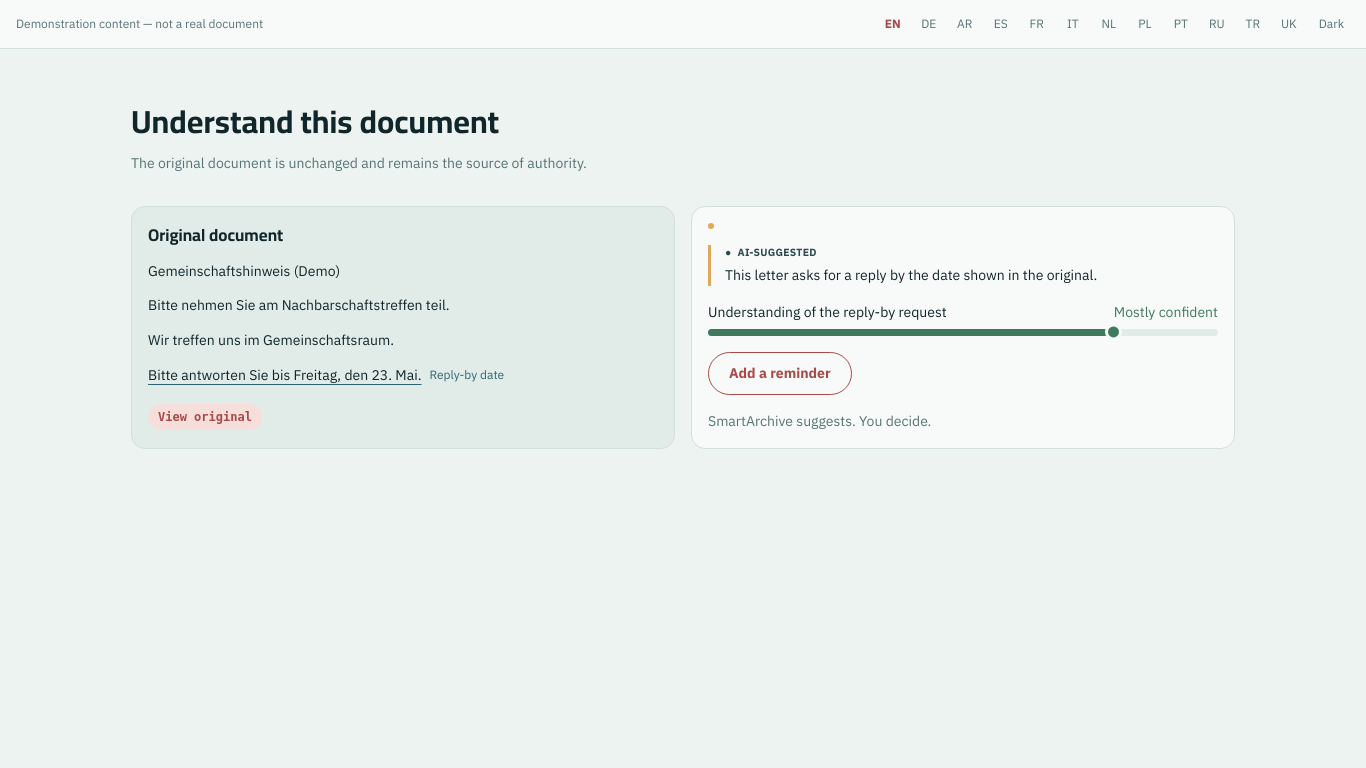
it: DocumentUnderstanding (HSA-08) › does not add a reminder until the human confirms
Click the button "Add a reminder". click: (780, 373)
box: [708,352,852,395]
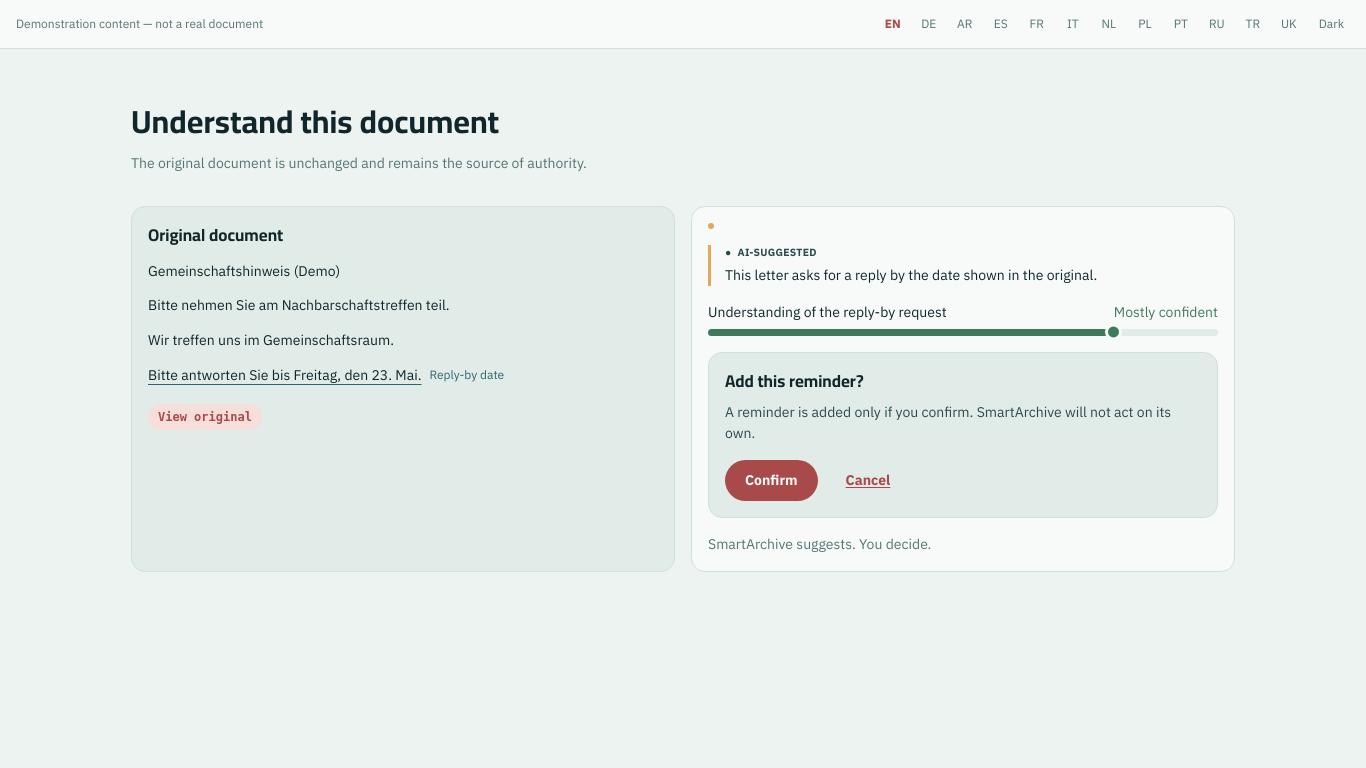
Expected: the text "Reminder saved. You can change or remove it later." is not shown
Expected: the dialog "Add this reminder?" is shown, [708,352,1218,518]
Click the button "Confirm". click: (771, 481)
box: [725,460,818,501]
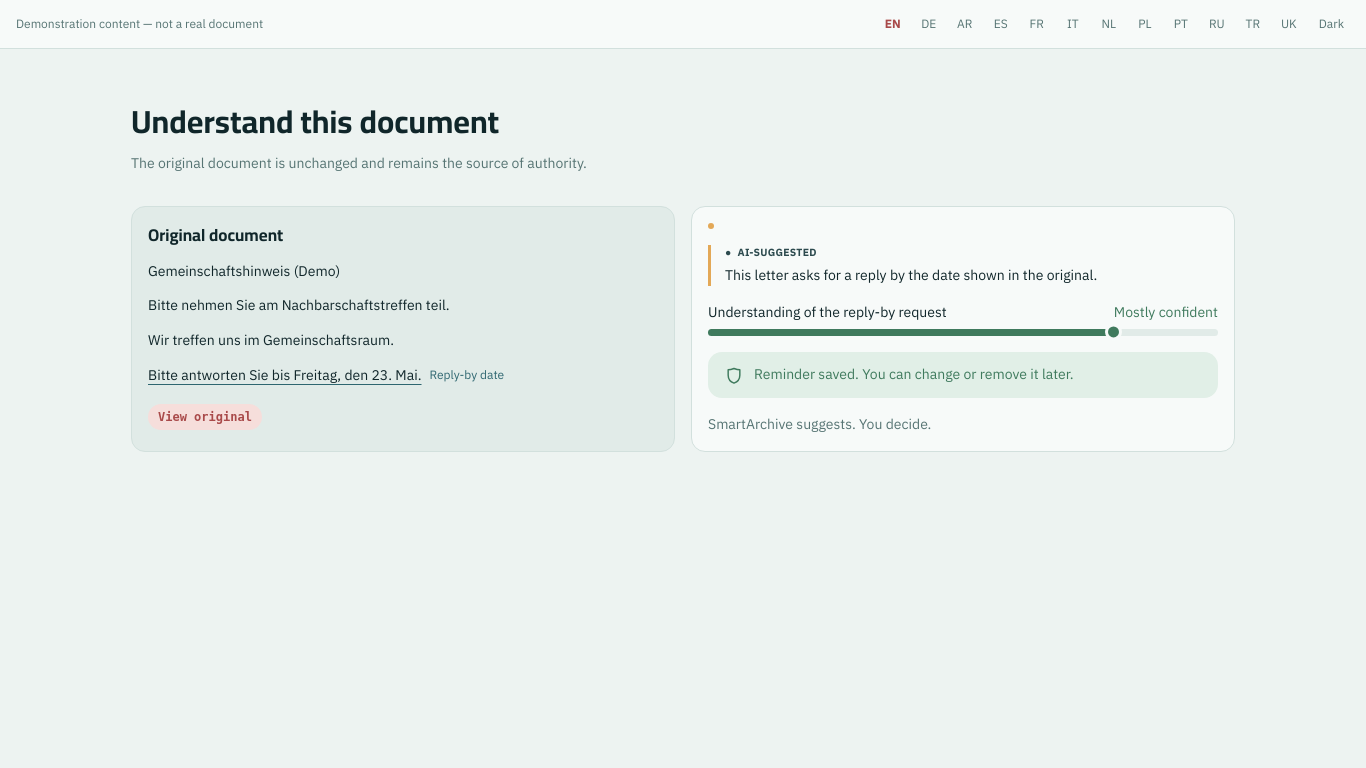
Expected: the text "Reminder saved. You can change or remove it later." is shown, [754,364,1074,385]
